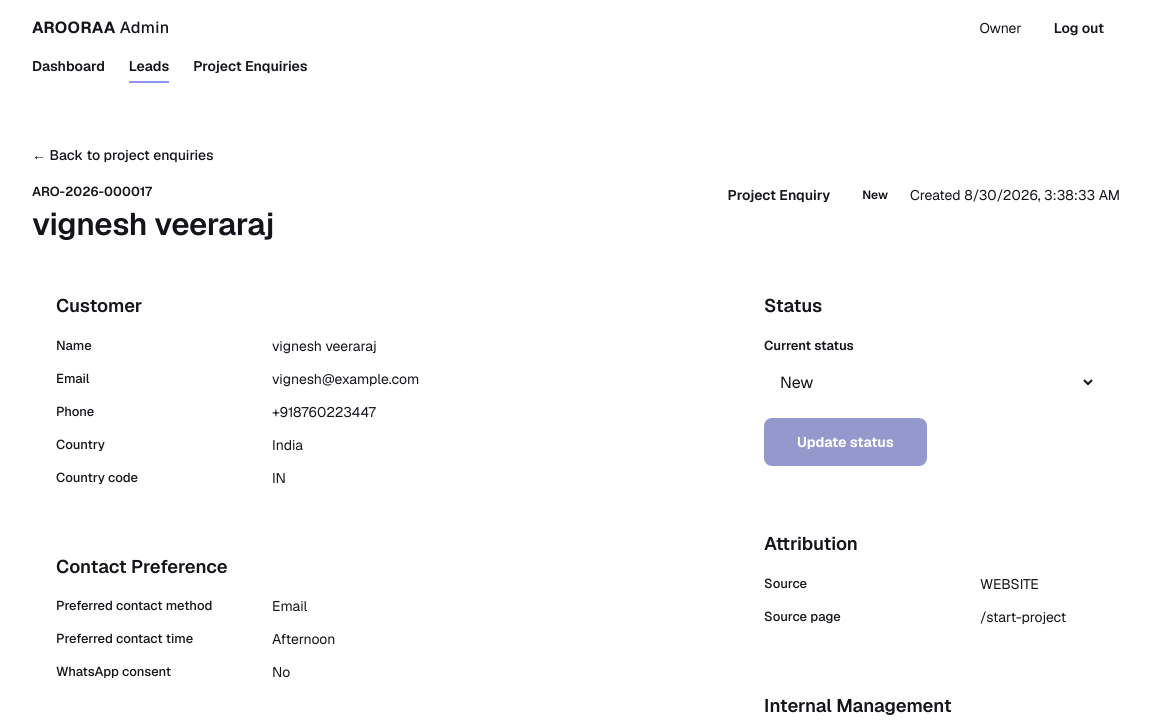
AdminLeadDetailPage › shows a conflict banner on a 409 optimistic-lock failure and never silently overwrites
Expected: the text "ARO-2026-000017" is shown, [32, 183, 152, 200]
Step 1. Select "Contacted" in the dropdown labelled "Current status" → (930, 383), box [764, 363, 1096, 402]
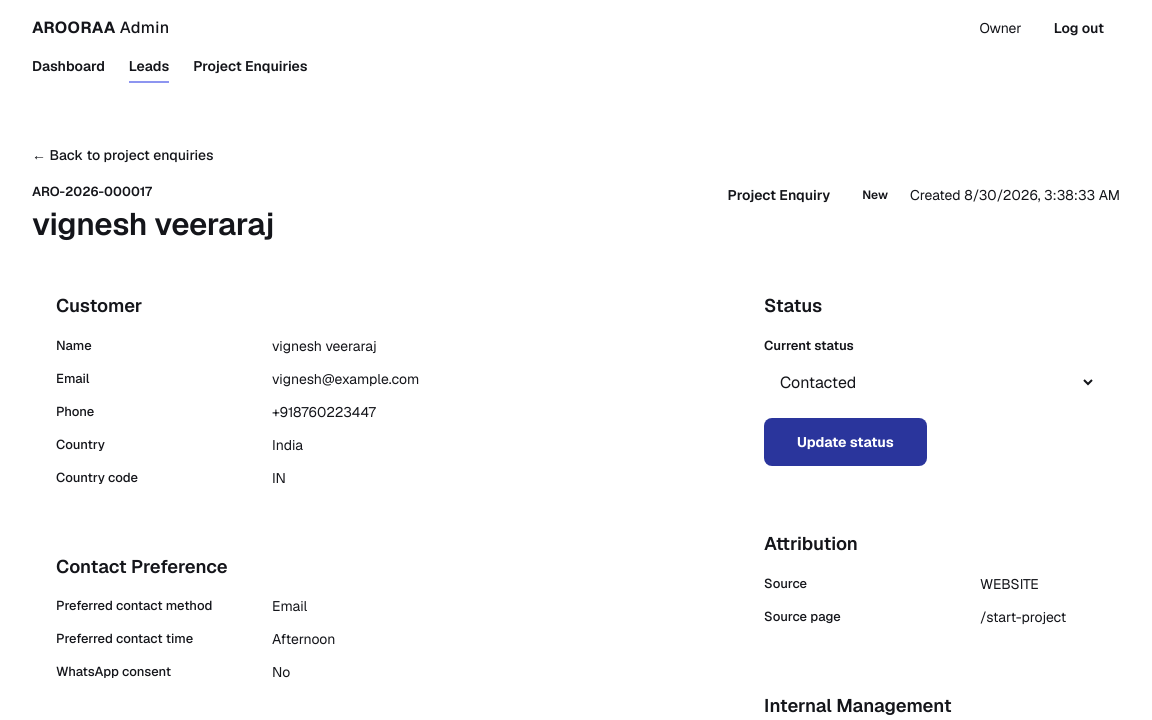
Step 2. Click the button "Update status" → (845, 442), box [764, 418, 927, 466]
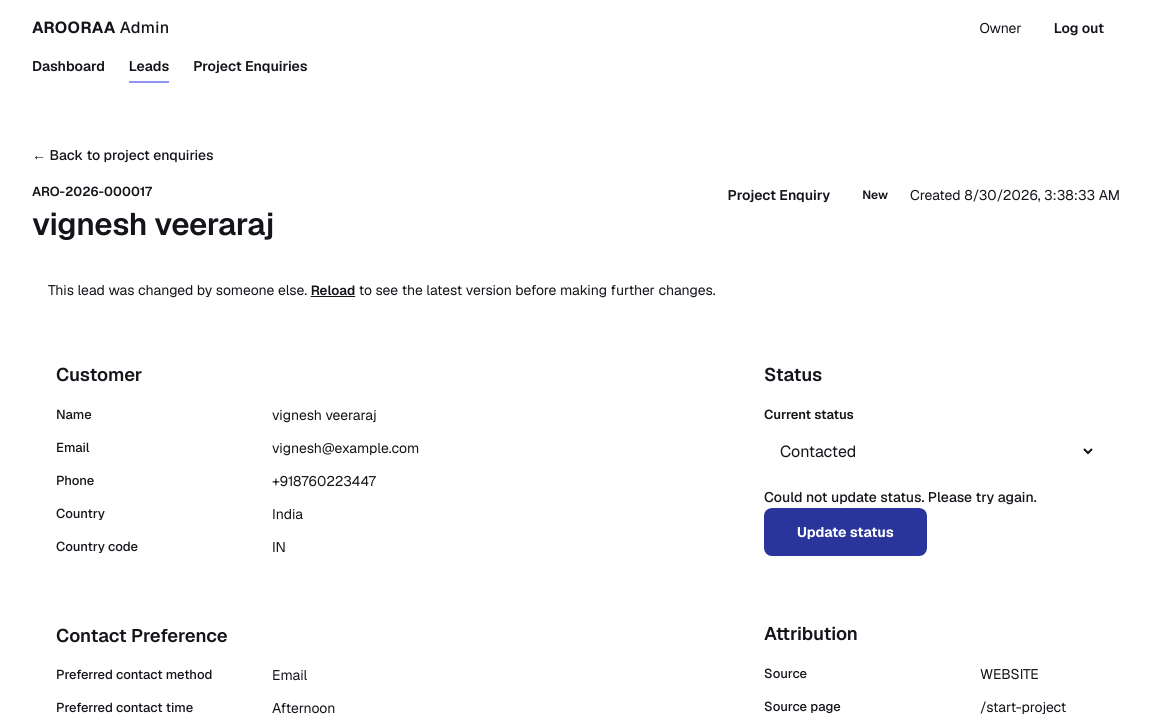
Now the text "This lead was changed by someone else." is shown, box [48, 281, 307, 299]
